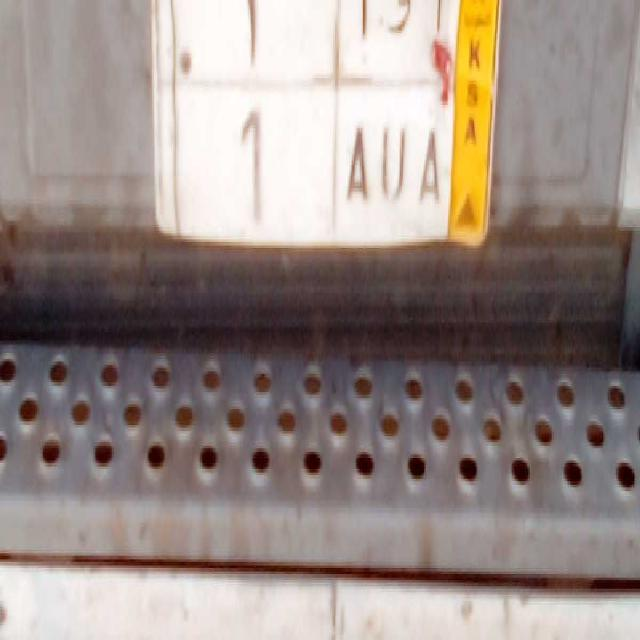license_plate: (177, 77, 449, 250)
